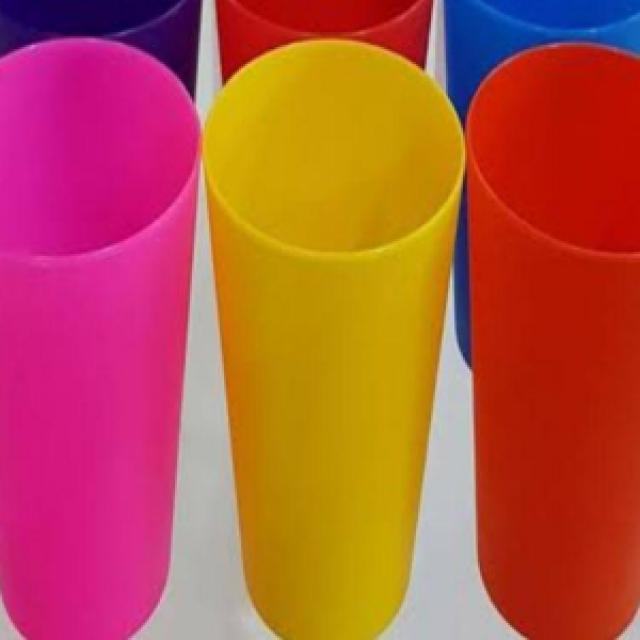plastic cup: (198, 34, 463, 636), (2, 32, 207, 636), (461, 36, 640, 627)
